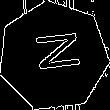N_W: (26, 33, 81, 80)
